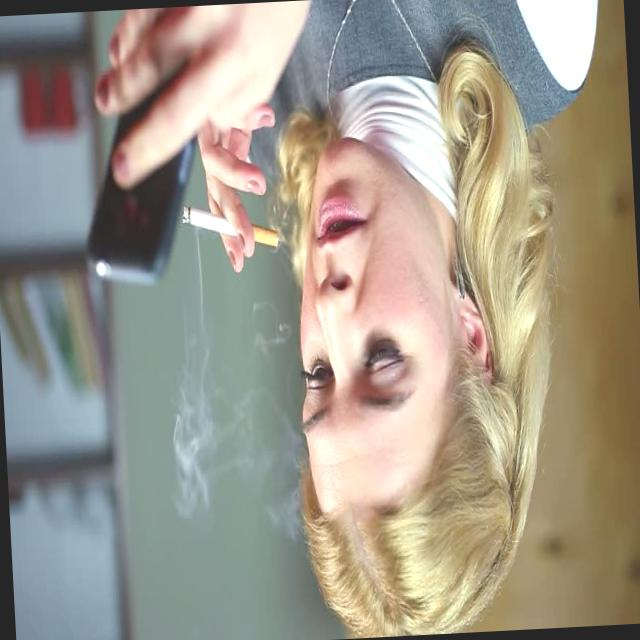smoke: (166, 172, 287, 288)
